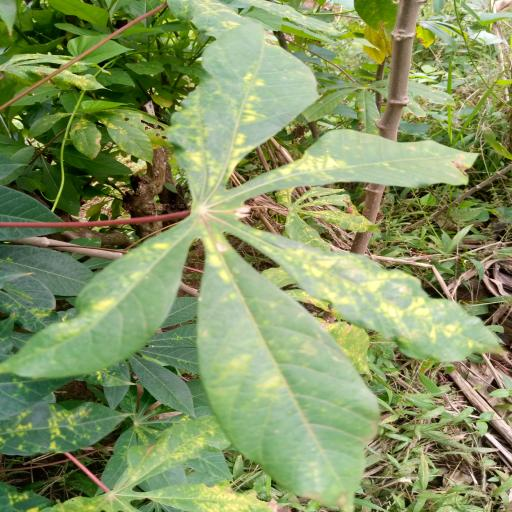Cassava_Mosaic: (6, 24, 512, 506)
